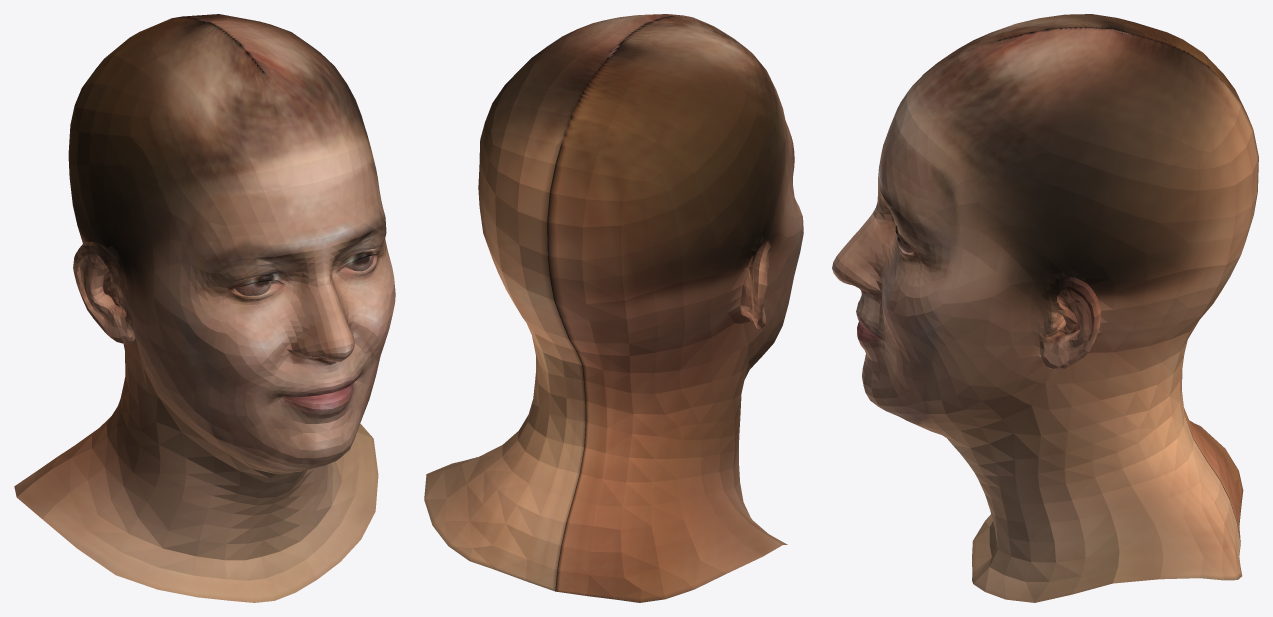
The model's file is leejj.fbx.
3 renders of one model, left to right at view 1: azimuth 30°, elevation 25°; view 2: azimuth 150°, elevation 25°; view 3: azimuth 270°, elevation 25°, orthographic. The views are drawn at different scales.
Visible parts, largest first — view 1: leejj; view 2: leejj; view 3: leejj.
Part boxes in pixels (box(x1,y1,x2,y2)): leejj: box(14, 14, 395, 602); leejj: box(424, 14, 803, 602); leejj: box(832, 14, 1258, 602).
Size of the model in its own units: 21.38 by 32.23 by 22.81.
1 material, 1 textured.
